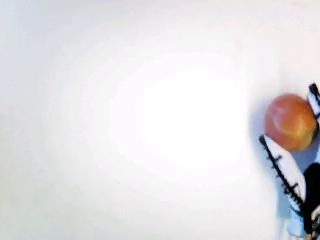apple: (262, 92, 314, 151)
hand: (257, 83, 320, 238)
